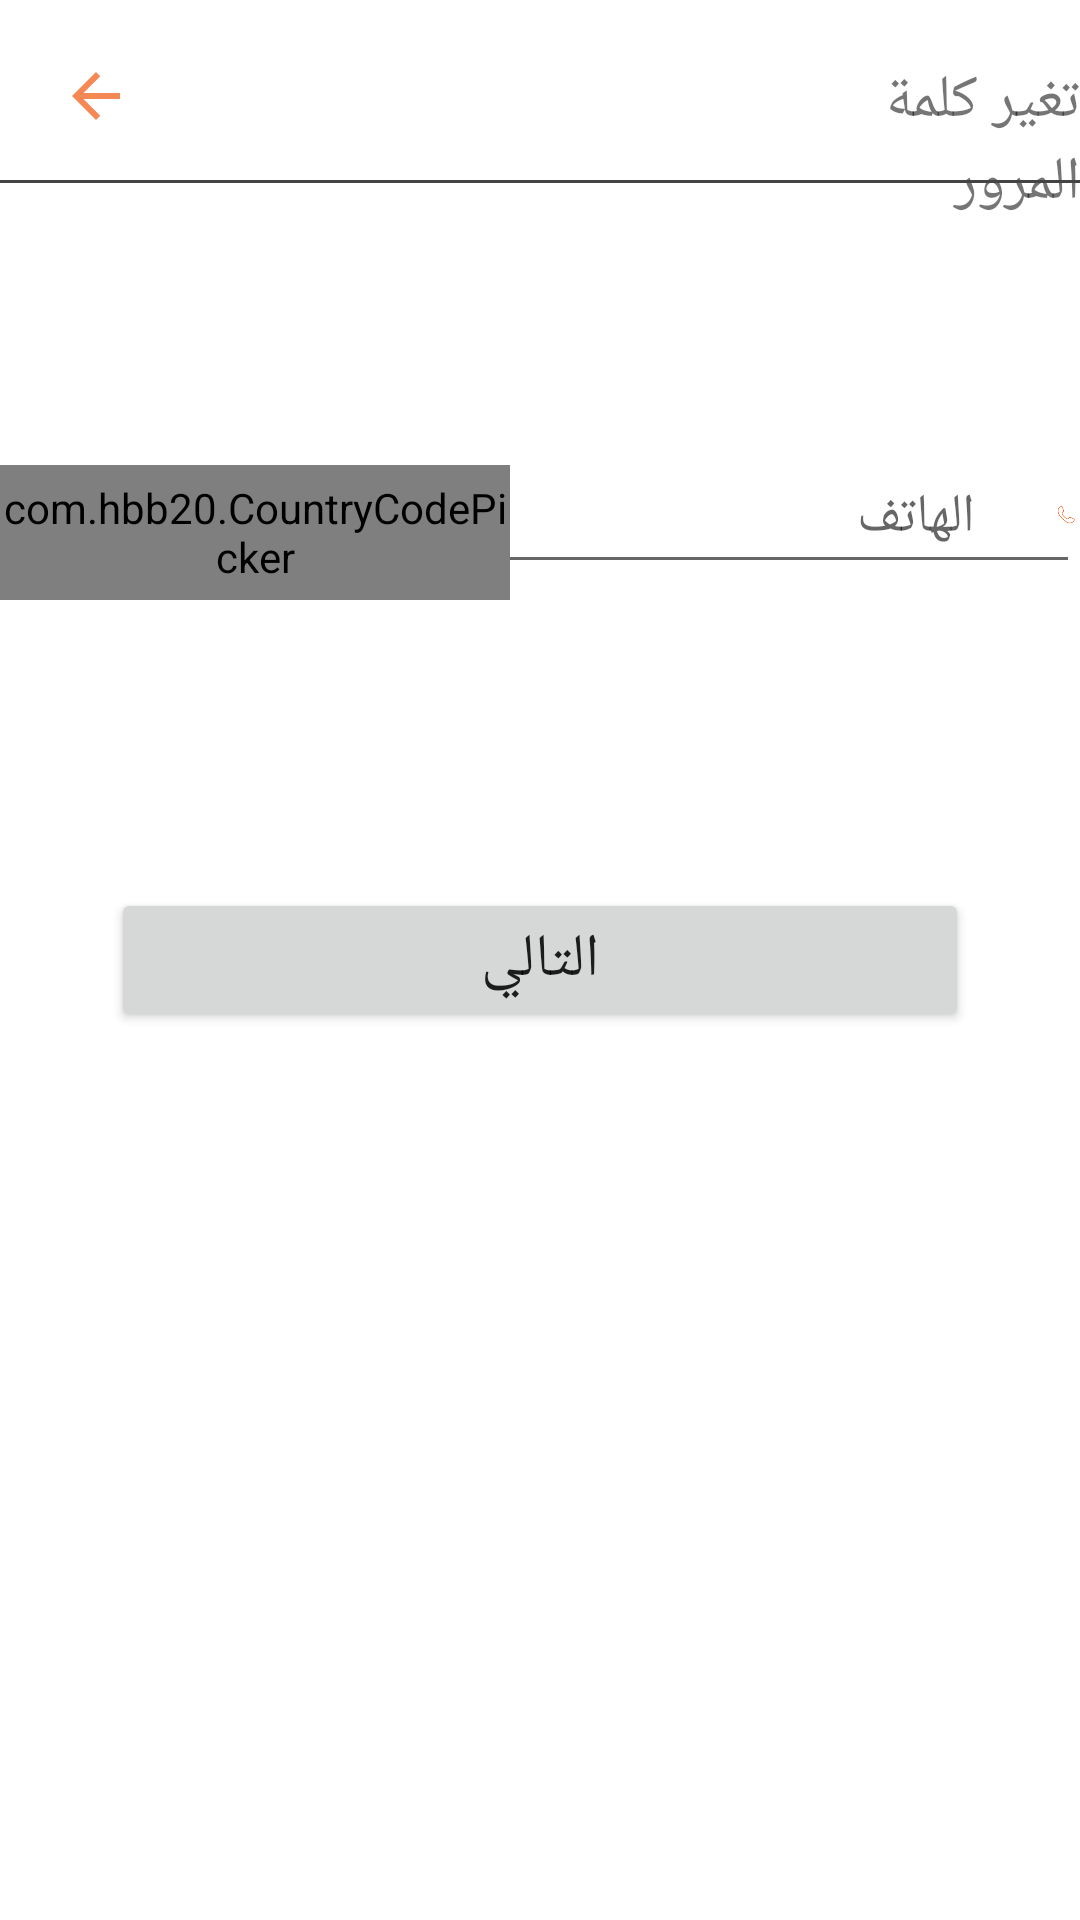

Named icons in this screenshot (1080px x 1920px) and their centers, point (x, y):
arrow: point (96, 96)
